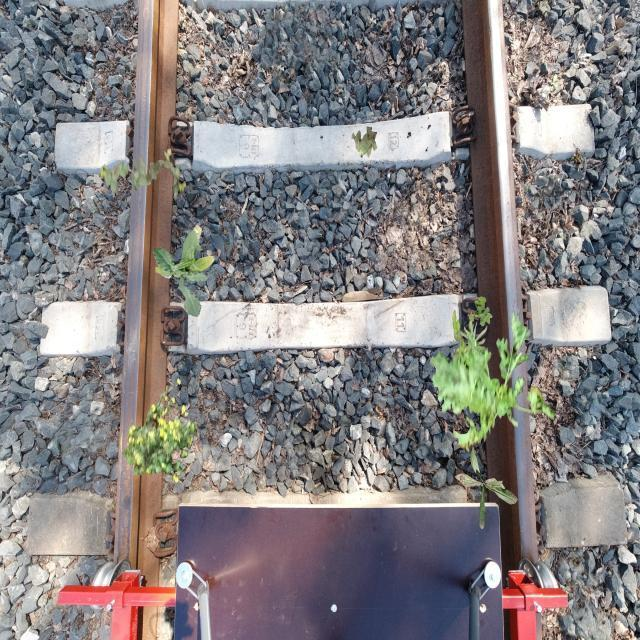Plant: (430, 308, 555, 455), (122, 378, 197, 483), (153, 224, 216, 318), (455, 446, 519, 530), (100, 148, 186, 200), (455, 321, 488, 356), (352, 126, 378, 158), (469, 296, 493, 326)
